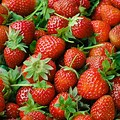Fresa: (76, 66, 110, 100), (88, 40, 118, 72), (21, 52, 55, 80), (48, 90, 78, 119), (34, 34, 66, 59), (8, 20, 37, 45), (90, 94, 116, 120), (53, 65, 79, 91), (68, 15, 96, 39), (30, 80, 56, 105), (4, 42, 27, 68), (62, 45, 86, 69), (46, 13, 71, 36), (98, 4, 120, 26)
